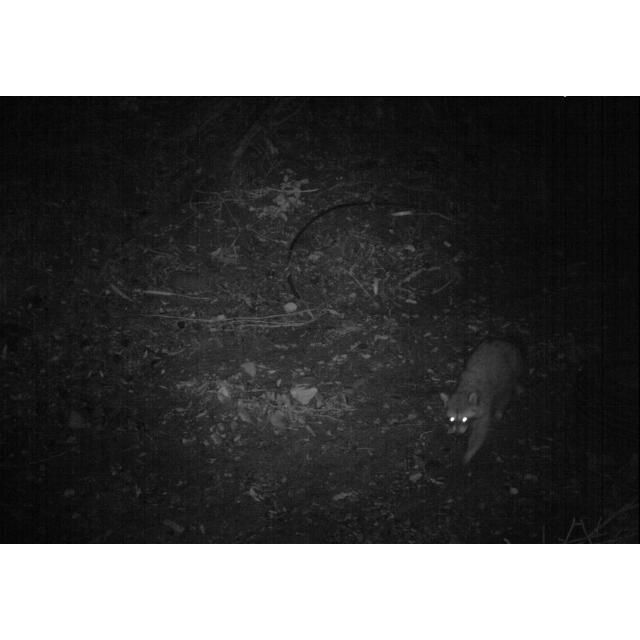animals: (438, 334, 526, 472)
